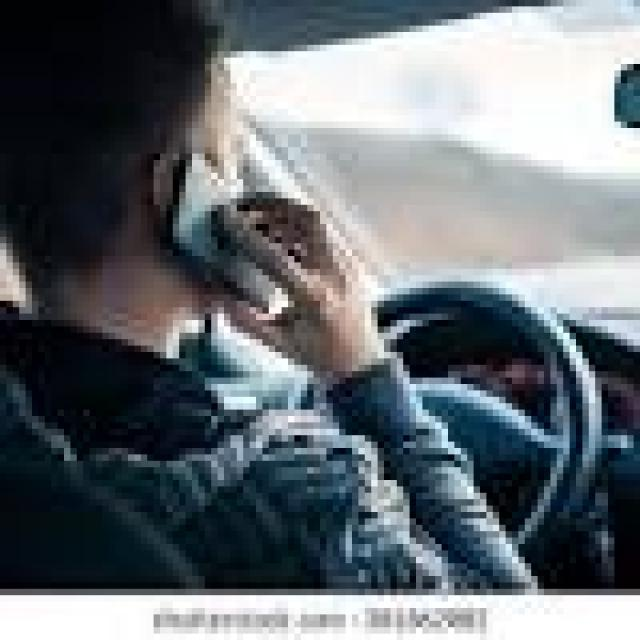Cellphone_calling: (134, 128, 358, 371)
